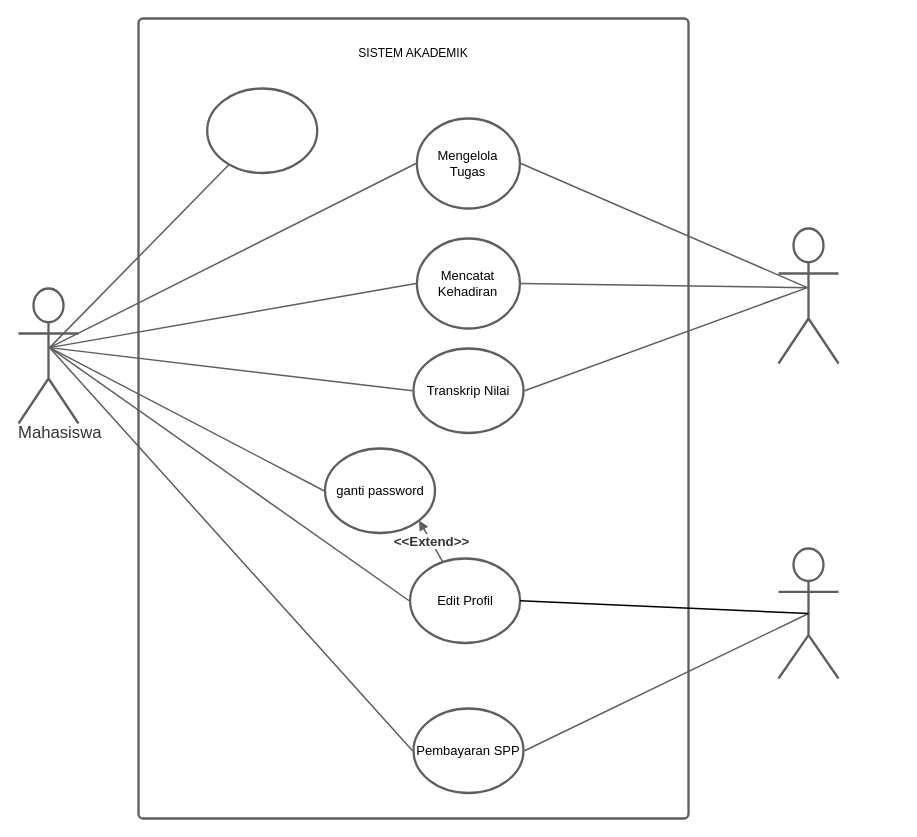
Some shapes in this 917 by 837 pixel diagram are drawn without their labels. The shapes that lost their labels are listed below. From the top down, each one's centre as x and y in pixels, then its label:
At pixel 262 130: "Login Akun".
At pixel 808 295: "Dosen".
At pixel 808 613: "Admin Kemahasiswaan".
